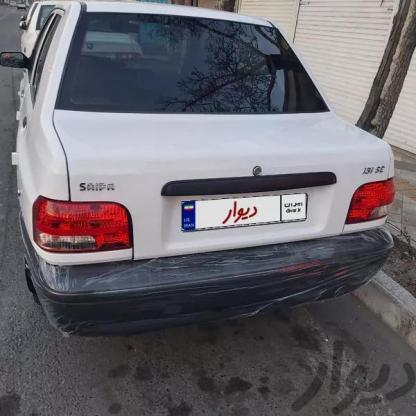Car: (0, 0, 397, 341), (8, 0, 150, 58)
